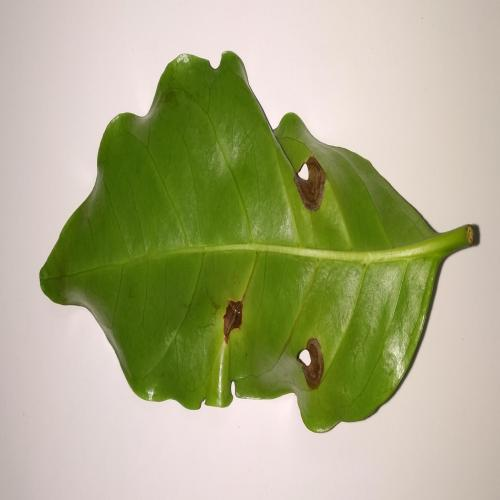miner: (295, 156, 326, 209)
